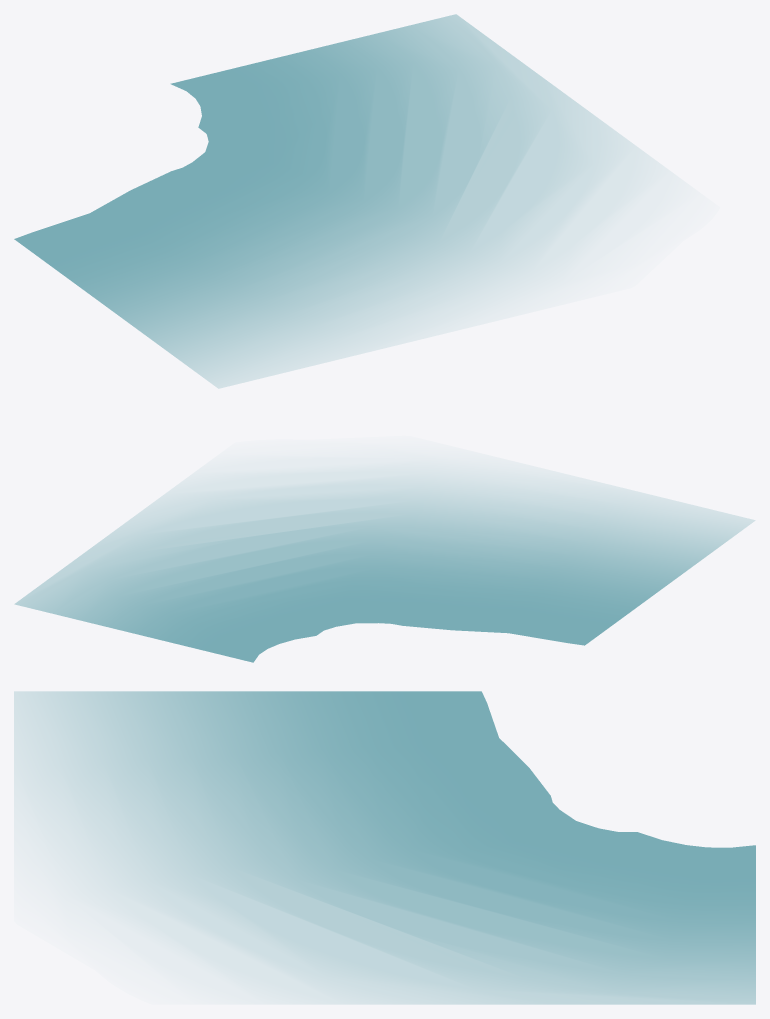
3 views of the same model, one above another, from view 1: azimuth 30°, elevation 25°; view 2: azimuth 150°, elevation 25°; view 3: azimuth 270°, elevation 25° (orthographic). The views are drawn at different scales.
Visible parts, largest first — view 1: city; view 2: city; view 3: city.
Boxes of the visible parts, bbox=[...] form: city: bbox=[14, 14, 659, 388]; city: bbox=[14, 463, 754, 662]; city: bbox=[14, 691, 755, 1004].
Size of the model in its own units: 500 by 0 by 500.
